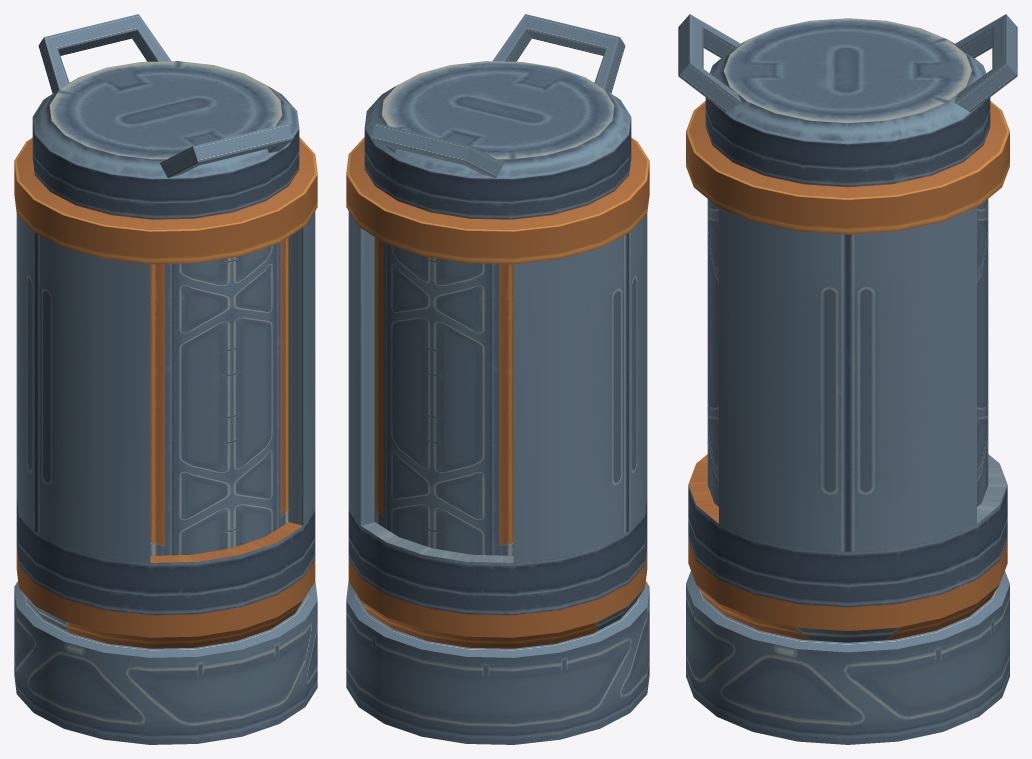
File: Prop_Barrel_Large.gltf
3 views of the same model, side by side, from view 1: azimuth 30°, elevation 25°; view 2: azimuth 150°, elevation 25°; view 3: azimuth 270°, elevation 25° (orthographic). The views are drawn at different scales.
Visible parts, largest first — view 1: Prop_Barrel_Large; view 2: Prop_Barrel_Large; view 3: Prop_Barrel_Large.
Boxes of the visible parts, <box> form: Prop_Barrel_Large: <box>14,14,317,744</box>; Prop_Barrel_Large: <box>346,14,649,744</box>; Prop_Barrel_Large: <box>678,14,1017,744</box>.
Size of the model in its own units: 0.5078 by 1.1 by 0.532.
2 materials, 2 textured.
